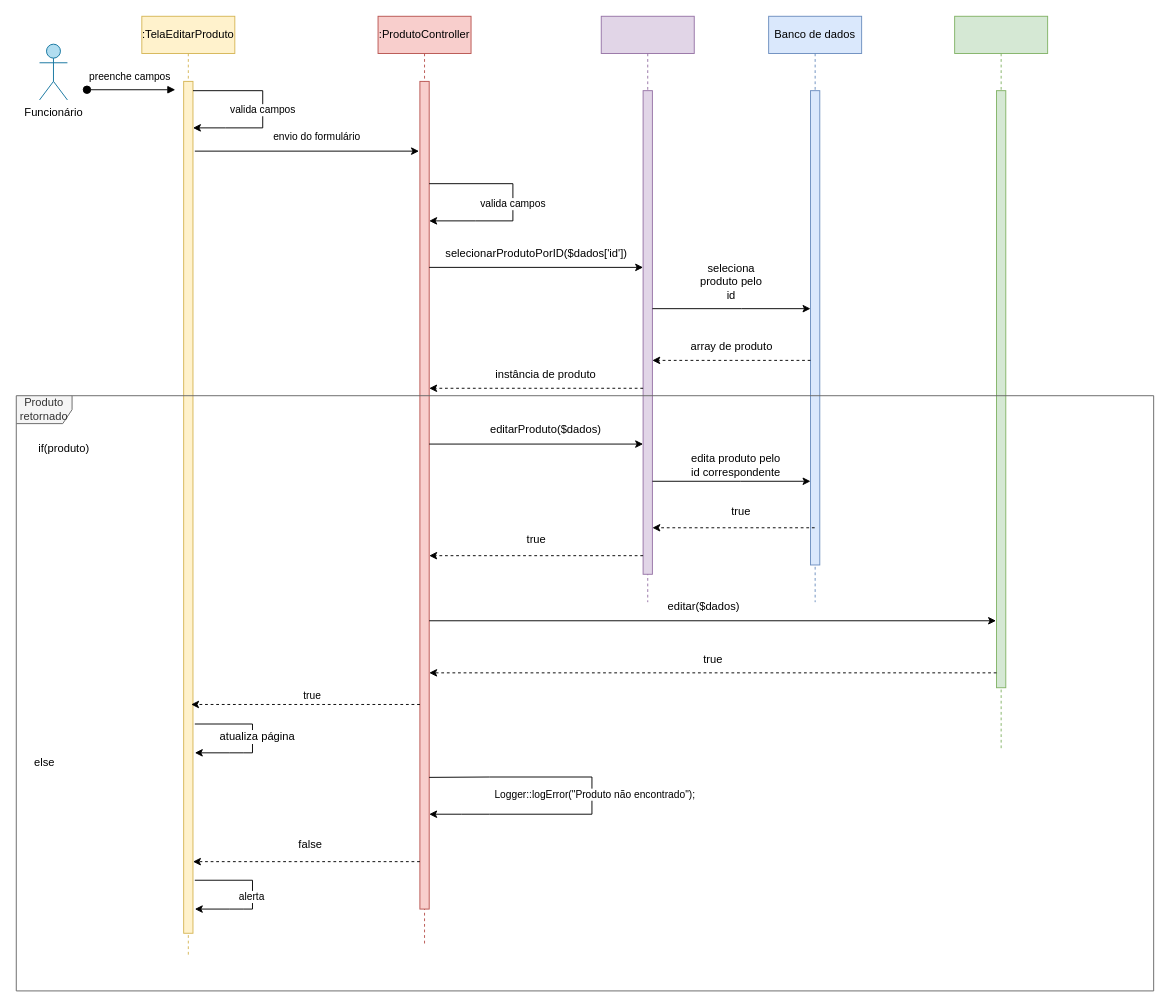
This 1170x1007 diagram has some shape labels left out. Here are the shapes that lost their labels. From the top down, the box of each, then its label:
(600, 15, 694, 602): :ProdutoRepository
(954, 15, 1048, 749): :ProdutoModel
